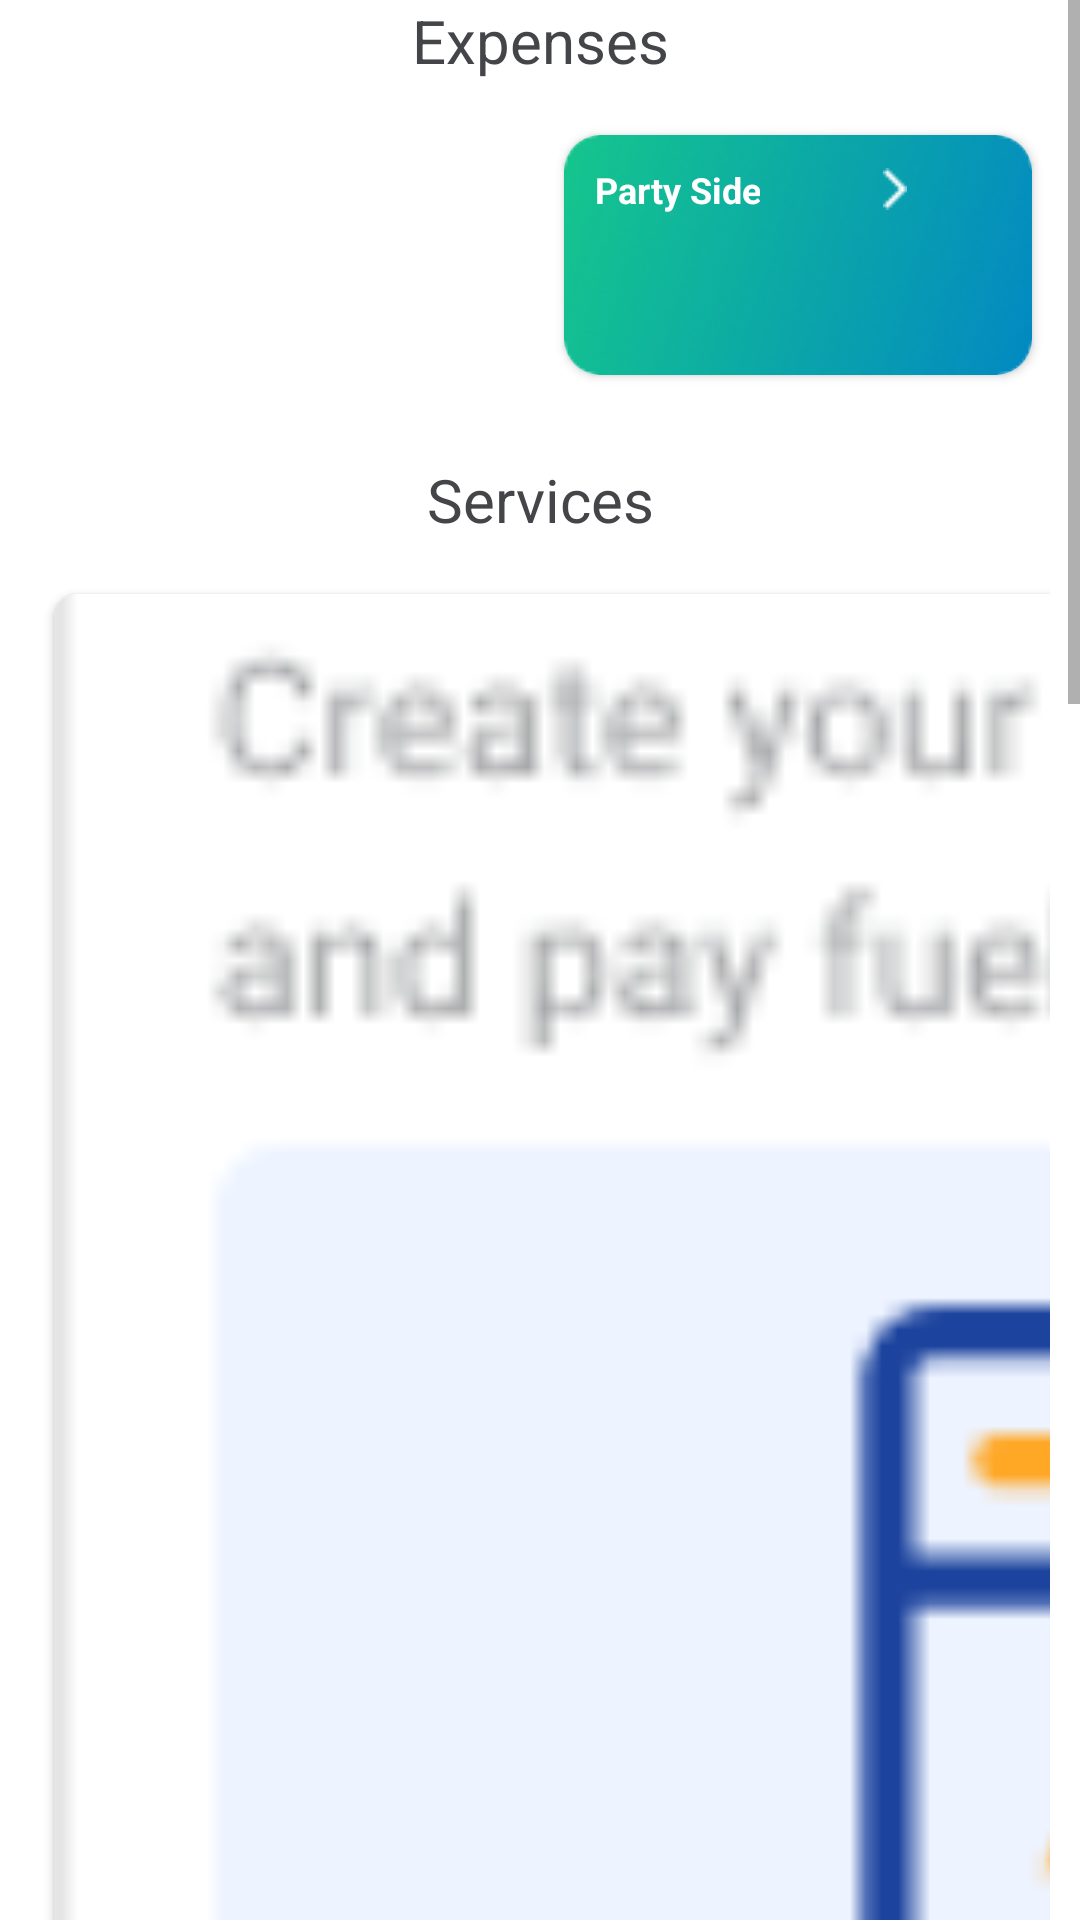

Named icons in this screenshot (1080*1920) and their centers, point (x, y):
arrow home: point (895, 189)
